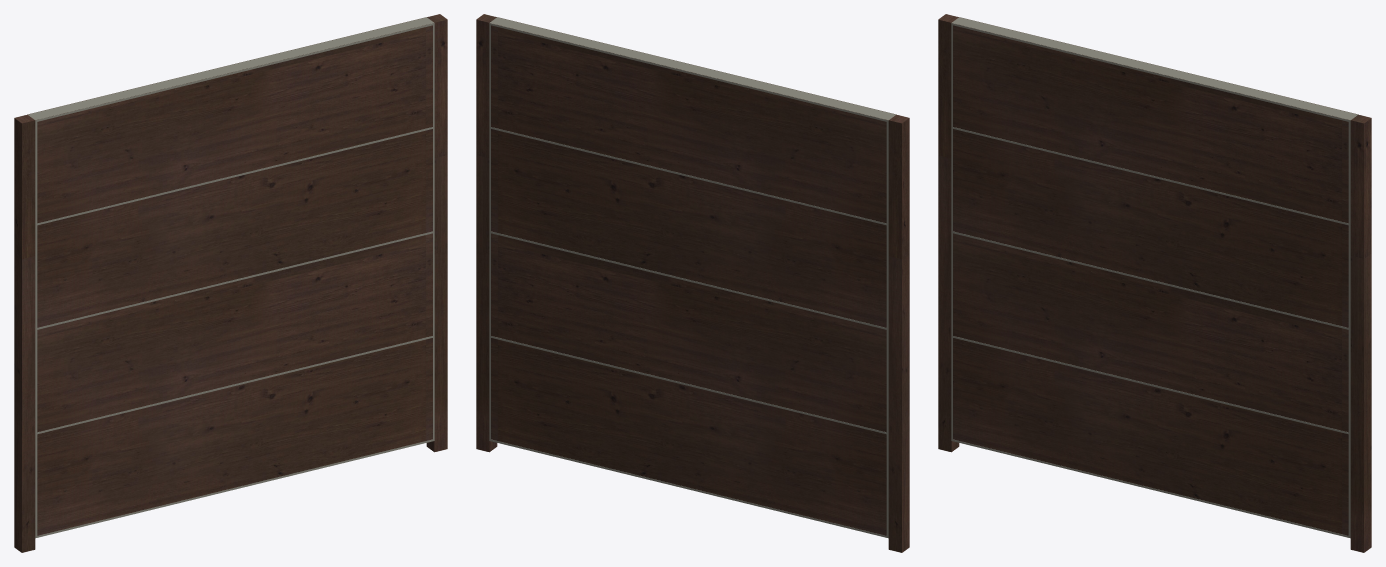
Rendered from ABF1-H1800_darkpine.fbx.
3 renders of one model, left to right at view 1: azimuth 30°, elevation 25°; view 2: azimuth 150°, elevation 25°; view 3: azimuth 330°, elevation 25°, orthographic.
Parts seen in each view (by area): view 1: 1850-1920-60_dark pine; view 2: 1850-1920-60_dark pine; view 3: 1850-1920-60_dark pine.
Boxes of the visible parts, left/top/right/bottom form: 1850-1920-60_dark pine: left=14, top=14, right=447, bottom=552; 1850-1920-60_dark pine: left=476, top=14, right=909, bottom=552; 1850-1920-60_dark pine: left=938, top=14, right=1371, bottom=552.
Bounding box in the file's own units: 192 × 185 × 6.4.
4 materials, 3 textured.
